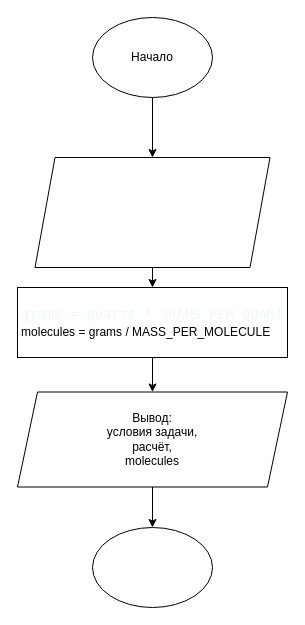
Image size: 305x625. Some labels were removed from this diagram. The shapes that lost their labels are listed below. From the top down, each one's centre as x and y in pixels, then its label:
the point at 152,212: Ввод: GRAMS_PER_QUART = 950 MASS_PER_MOLECULE = 3.0e-23 quarts = 10
the point at 152,567: Конец
